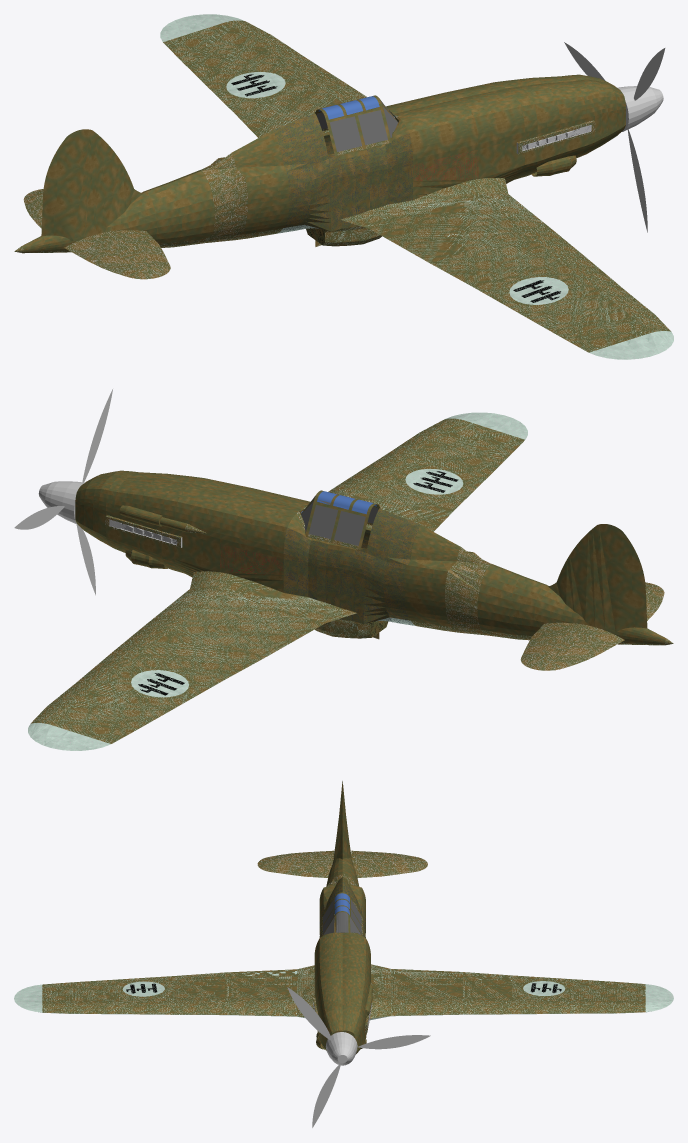
The picture shows the model from 3 angles, top to bottom: view 1: azimuth 30°, elevation 25°; view 2: azimuth 150°, elevation 25°; view 3: azimuth 270°, elevation 25°; orthographic projection. The views are drawn at different scales.
Visible parts, largest first — view 1: mesh13_mesh13-geometry, mesh15_mesh15-geometry, mesh21_mesh21-geometry, mesh9_mesh9-geometry, mesh6_mesh6-geometry, mesh16_mesh16-geometry, mesh18_mesh18-geometry, mesh19_mesh19-geometry, mesh11_mesh11-geometry, mesh20_mesh20-geometry, mesh10_mesh10-geometry, mesh2_mesh2-geometry; view 2: mesh13_mesh13-geometry, mesh21_mesh21-geometry, mesh15_mesh15-geometry, mesh1_mesh1-geometry, mesh2_mesh2-geometry, mesh16_mesh16-geometry, mesh18_mesh18-geometry, mesh23_mesh23-geometry, mesh14_mesh14-geometry, mesh11_mesh11-geometry, mesh12_mesh12-geometry; view 3: mesh21_mesh21-geometry, mesh15_mesh15-geometry, mesh13_mesh13-geometry, mesh2_mesh2-geometry, mesh6_mesh6-geometry, mesh16_mesh16-geometry, mesh18_mesh18-geometry, mesh12_mesh12-geometry, mesh11_mesh11-geometry, mesh10_mesh10-geometry.
Boxes of the visible parts, x1=… form: mesh13_mesh13-geometry: x1=14, y1=74, x2=625, y2=253; mesh15_mesh15-geometry: x1=341, y1=178, x2=673, y2=359; mesh21_mesh21-geometry: x1=160, y1=14, x2=366, y2=137; mesh9_mesh9-geometry: x1=41, y1=129, x2=142, y2=241; mesh6_mesh6-geometry: x1=64, y1=230, x2=170, y2=279; mesh16_mesh16-geometry: x1=315, y1=95, x2=397, y2=156; mesh18_mesh18-geometry: x1=617, y1=86, x2=663, y2=131; mesh19_mesh19-geometry: x1=516, y1=120, x2=595, y2=154; mesh11_mesh11-geometry: x1=634, y1=48, x2=665, y2=100; mesh20_mesh20-geometry: x1=531, y1=155, x2=576, y2=176; mesh10_mesh10-geometry: x1=627, y1=129, x2=647, y2=232; mesh2_mesh2-geometry: x1=23, y1=189, x2=43, y2=228; mesh13_mesh13-geometry: x1=75, y1=470, x2=673, y2=645; mesh21_mesh21-geometry: x1=28, y1=571, x2=356, y2=750; mesh15_mesh15-geometry: x1=328, y1=412, x2=527, y2=531; mesh1_mesh1-geometry: x1=548, y1=524, x2=647, y2=633; mesh2_mesh2-geometry: x1=520, y1=622, x2=624, y2=670; mesh16_mesh16-geometry: x1=301, y1=490, x2=380, y2=549; mesh18_mesh18-geometry: x1=38, y1=481, x2=84, y2=524; mesh23_mesh23-geometry: x1=105, y1=515, x2=182, y2=548; mesh14_mesh14-geometry: x1=119, y1=505, x2=206, y2=533; mesh11_mesh11-geometry: x1=82, y1=389, x2=112, y2=482; mesh12_mesh12-geometry: x1=14, y1=506, x2=64, y2=529; mesh21_mesh21-geometry: x1=369, y1=964, x2=673, y2=1020; mesh15_mesh15-geometry: x1=14, y1=965, x2=314, y2=1018; mesh13_mesh13-geometry: x1=314, y1=857, x2=370, y2=1053; mesh2_mesh2-geometry: x1=351, y1=850, x2=427, y2=877; mesh6_mesh6-geometry: x1=257, y1=850, x2=334, y2=877; mesh16_mesh16-geometry: x1=321, y1=892, x2=362, y2=936; mesh18_mesh18-geometry: x1=325, y1=1032, x2=357, y2=1065; mesh12_mesh12-geometry: x1=357, y1=1035, x2=430, y2=1049; mesh11_mesh11-geometry: x1=287, y1=987, x2=331, y2=1040; mesh10_mesh10-geometry: x1=312, y1=1065, x2=340, y2=1127.
Size of the model in its own units: 0.6133 by 0.2014 by 0.7637.
